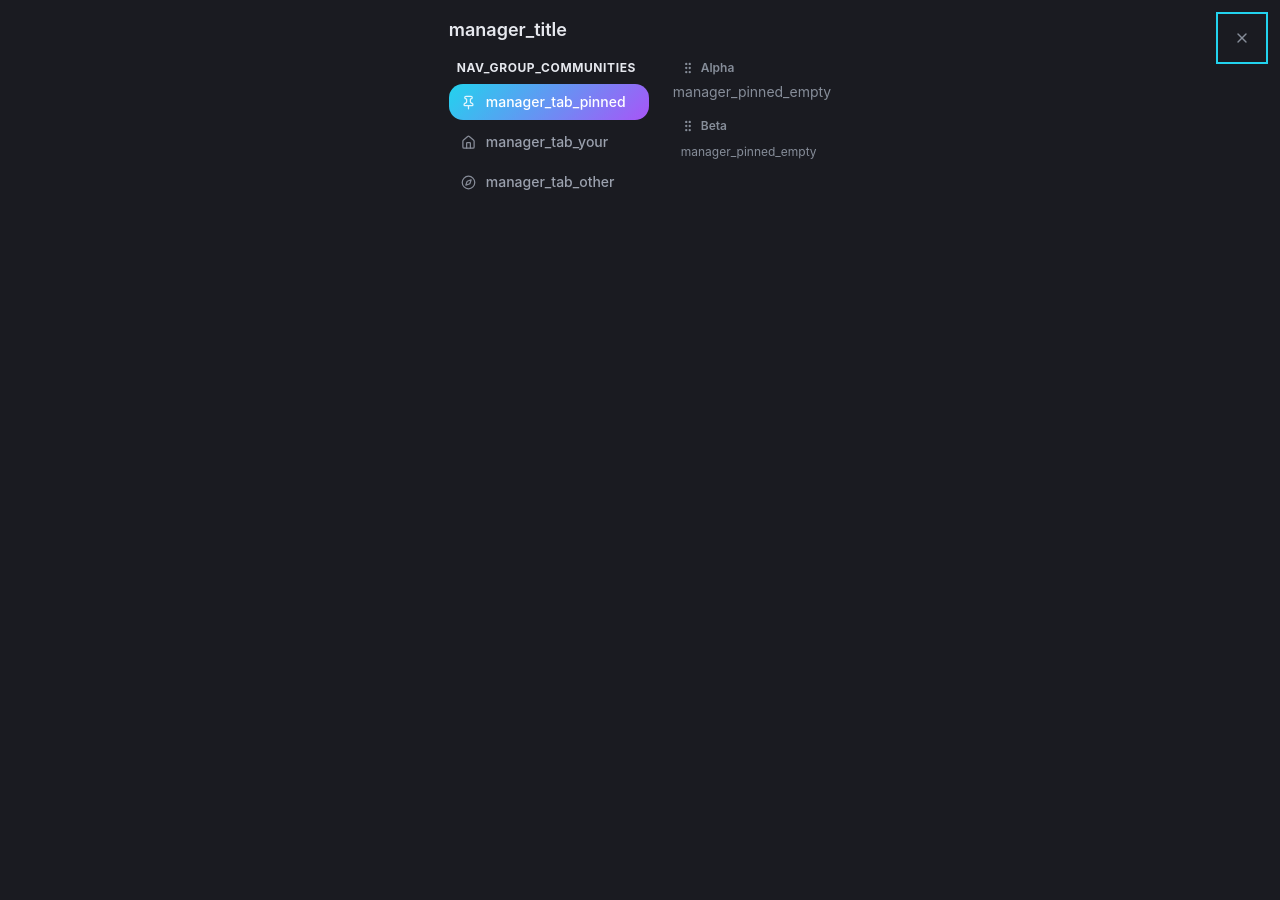
Test: CommunityManagerModal desktop variant › loads a non-active identity's communities fresh over the network, ignoring the stale connection snapshot
Click the button with test id "manager-tab-other" at (549, 182), box [449,164,649,200]
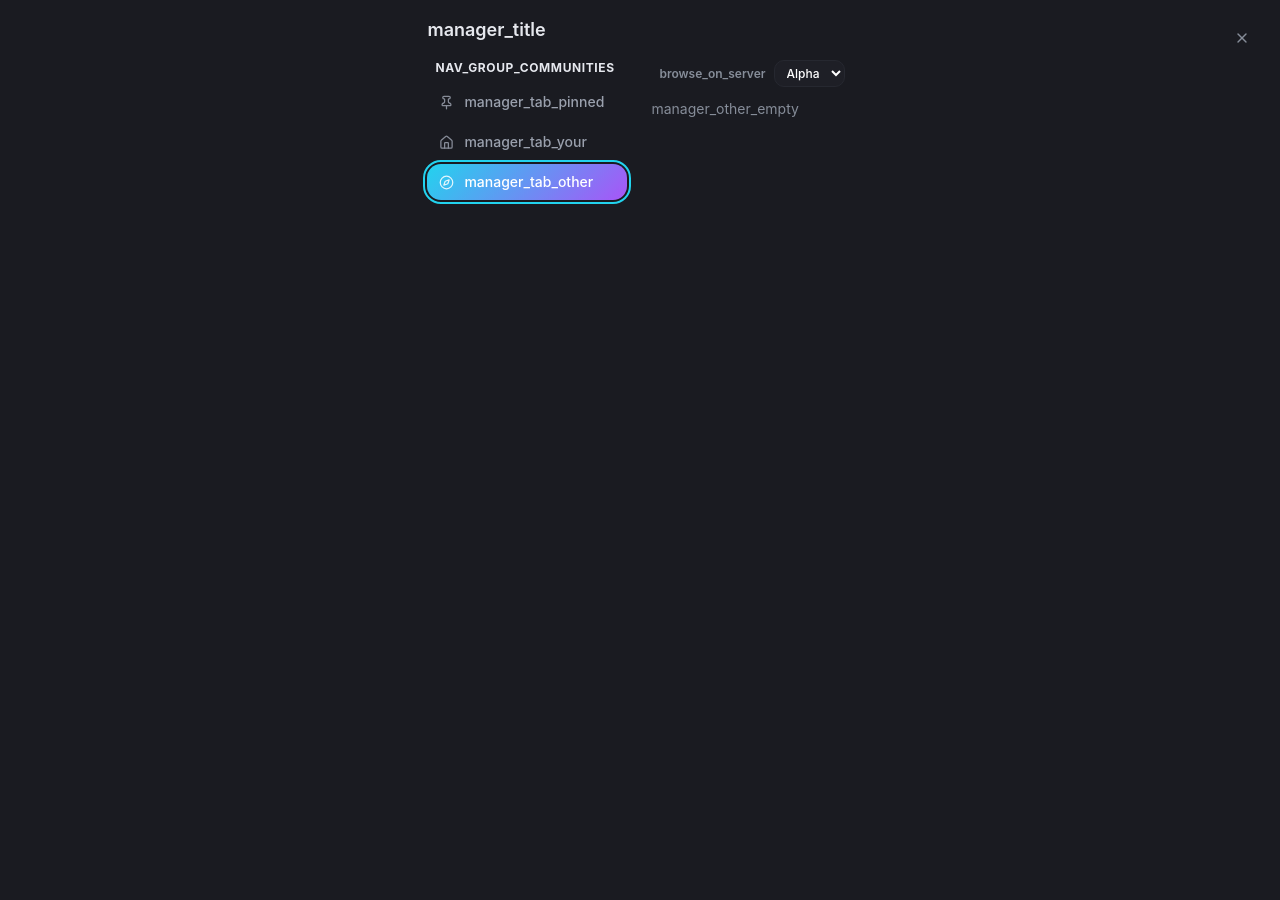
Select "Beta" in the dropdown with test id "manager-browse-select" at (809, 74), box [774,60,844,87]
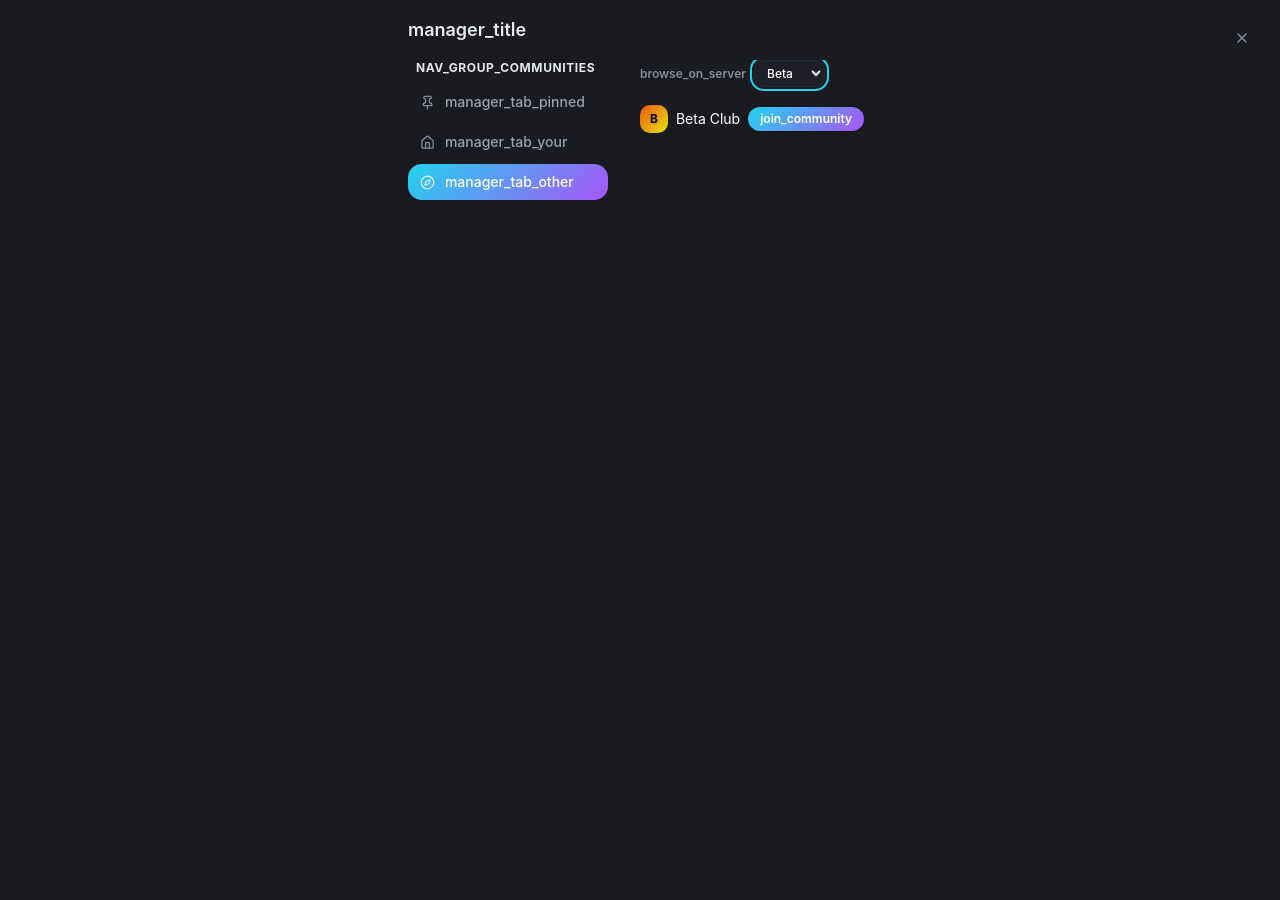
Expected: the text "Beta Club" is shown, [676,109,740,129]
